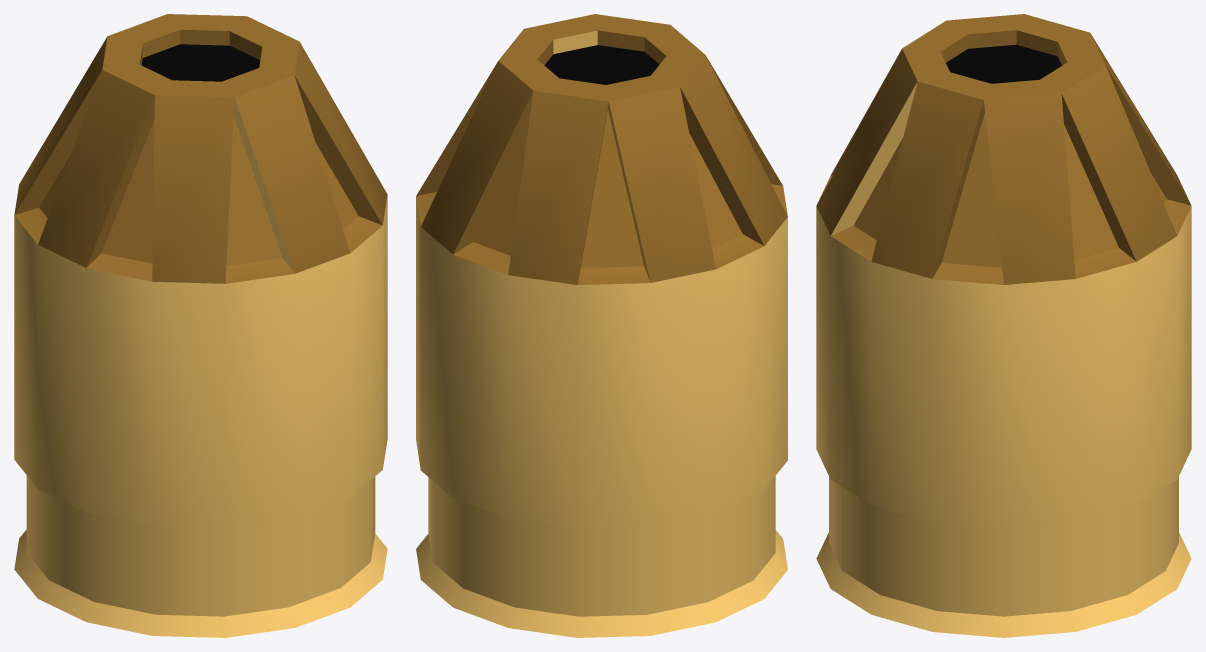
The model's file is SMGBullet.fbx.
3 views of the same model, side by side, from view 1: azimuth 30°, elevation 25°; view 2: azimuth 150°, elevation 25°; view 3: azimuth 270°, elevation 25° (orthographic).
Visible parts, largest first — view 1: Cylinder; view 2: Cylinder; view 3: Cylinder.
Boxes of the visible parts, x1,y1,x2,y2 form: Cylinder: (14, 14, 387, 637); Cylinder: (416, 14, 787, 637); Cylinder: (816, 14, 1191, 637).
Size of the model in its own units: 20 by 29.5 by 20.
